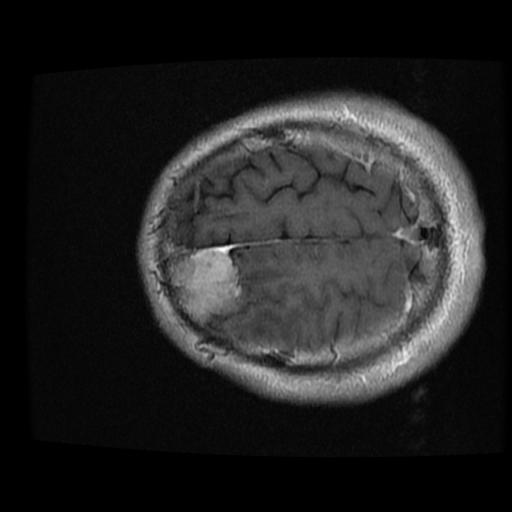meningioma: (169, 250, 239, 327)
